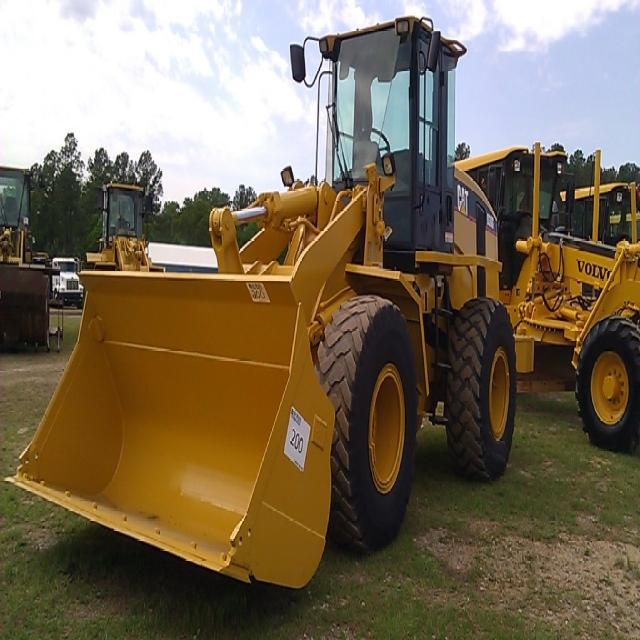buldozerpayloadergrader: (16, 12, 520, 600)
